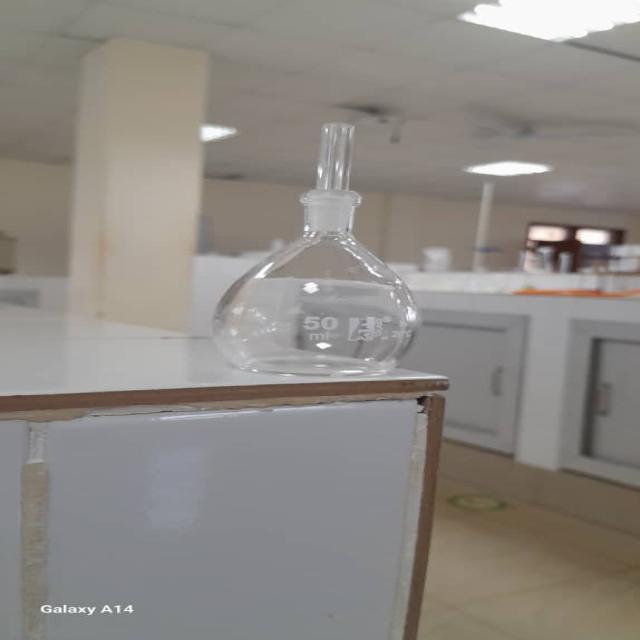Density Bottle for Liquids: (208, 114, 470, 380)
